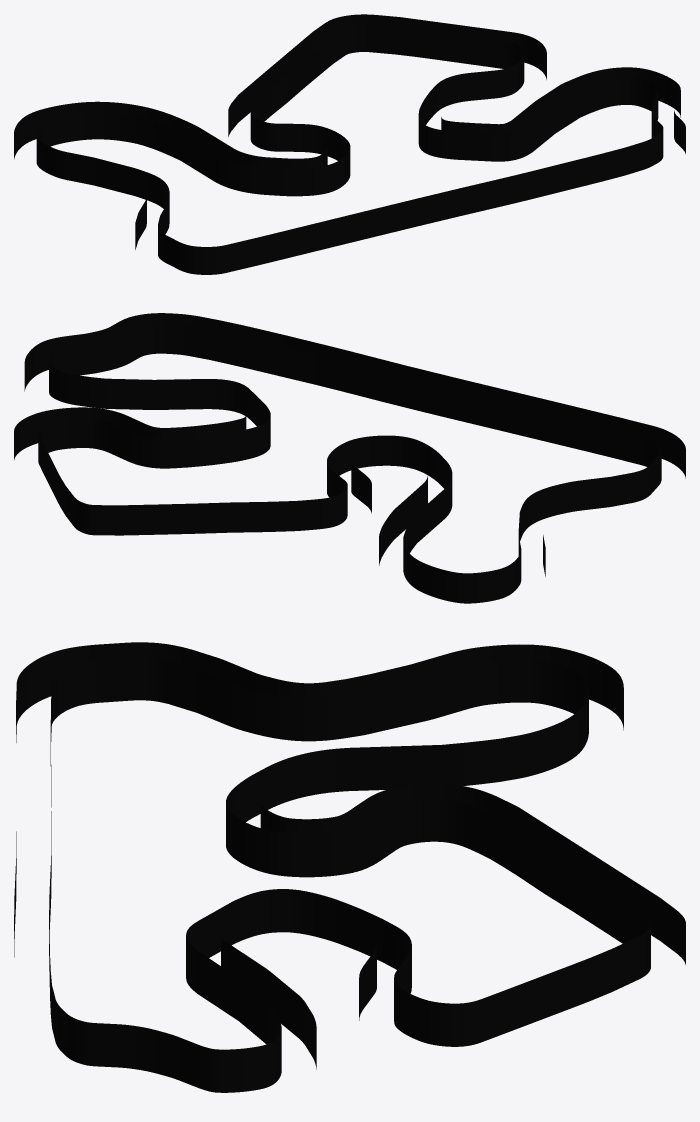
Rendered from BEACH MAP ROAD COLLIDER.fbx.
3 views of the same model, one above another, from view 1: azimuth 30°, elevation 25°; view 2: azimuth 150°, elevation 25°; view 3: azimuth 270°, elevation 25° (orthographic). The views are drawn at different scales.
Visible parts, largest first — view 1: Object001; view 2: Object001; view 3: Object001.
Boxes of the visible parts, x1,y1,x2,y2 form: Object001: [14, 14, 685, 274]; Object001: [14, 313, 685, 603]; Object001: [14, 642, 685, 1092].
Bounding box in the file's own units: 31880 × 1533 × 21452.
1 material, 1 textured.
